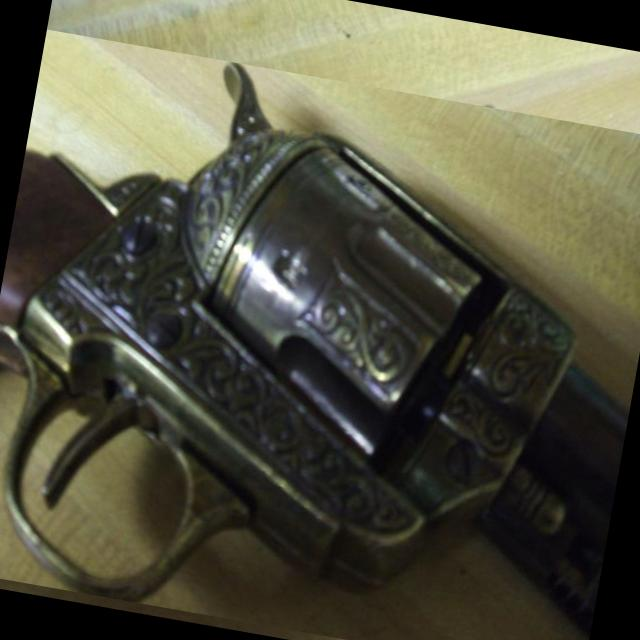Gun: (0, 62, 629, 628)
